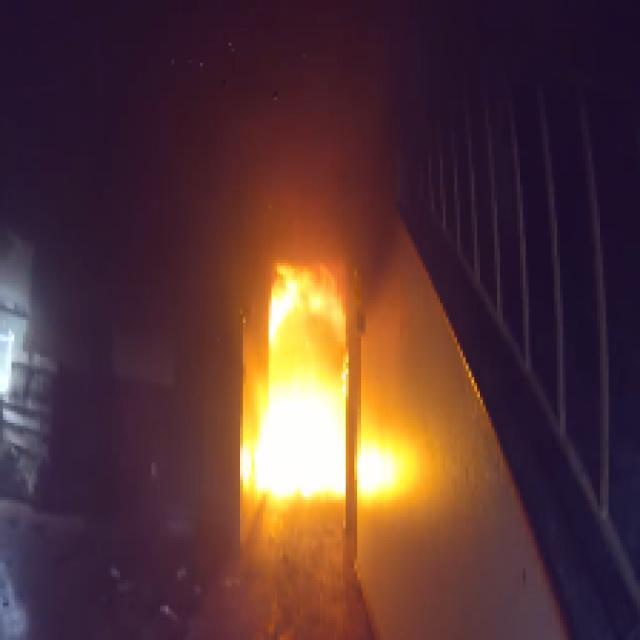Fire: (241, 259, 428, 512)
Smoke: (243, 23, 386, 263)
